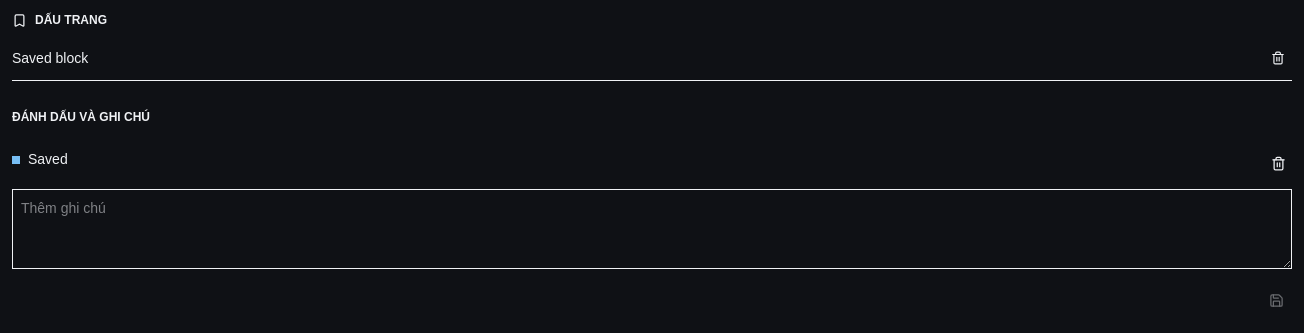
Test: reader annotation tools › shows note save failure
This screenshot has width=1304, height=333.
Type "Will fail" into the text box with placeholder "Thêm ghi chú" at coordinates (652, 229), box [12,189,1292,269]
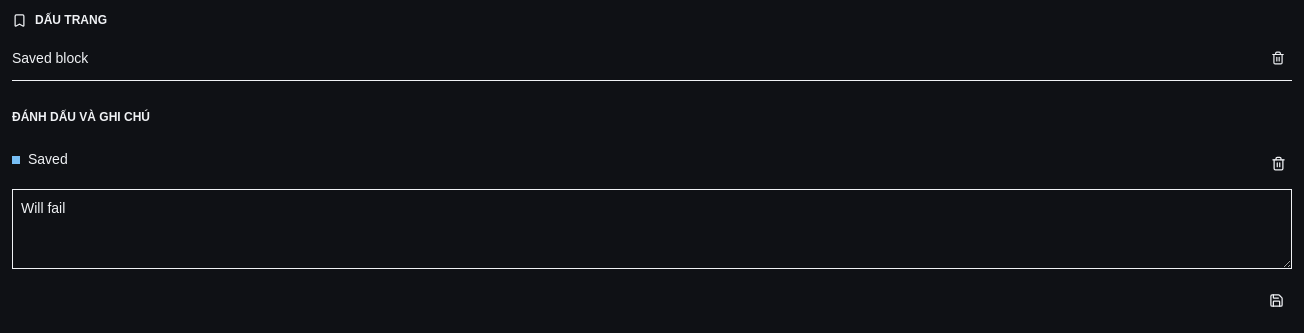
Click the button named "Lưu ghi chú" at coordinates (1276, 300), box [1260,284,1292,316]
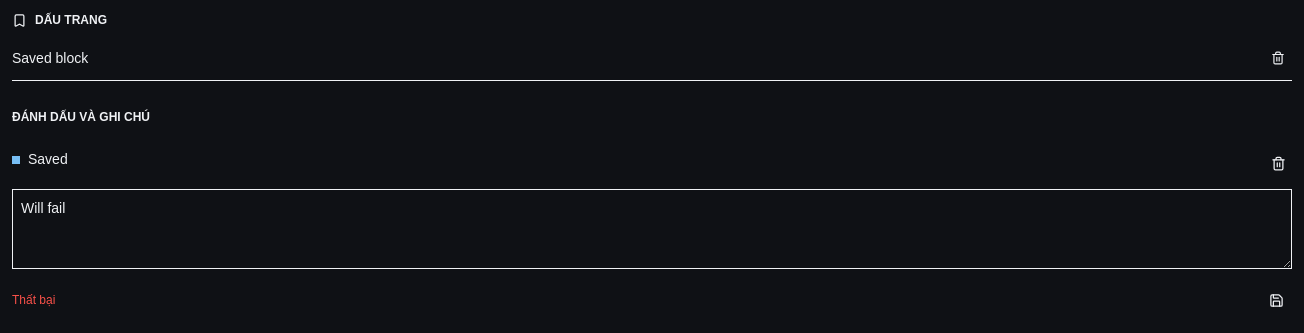
Check: the text "Thất bại" is shown, box [12,292,55,308]
